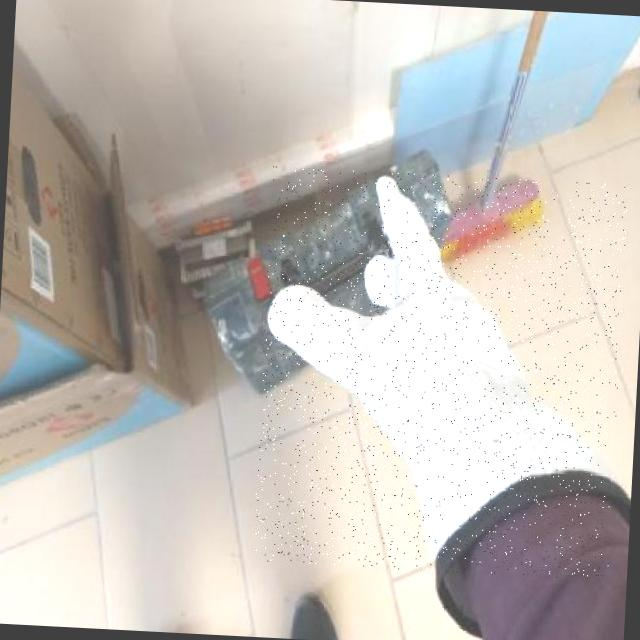gloves: (247, 171, 640, 568)
